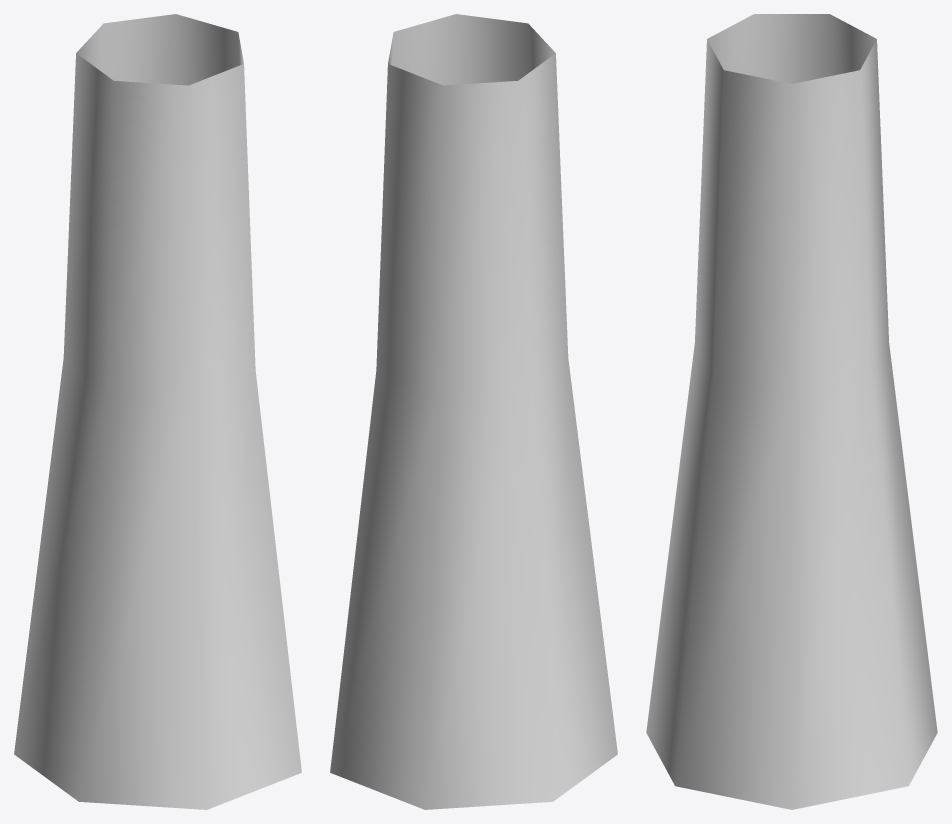
File: mushroom_stem.glb
3 views of the same model, side by side, from view 1: azimuth 30°, elevation 25°; view 2: azimuth 150°, elevation 25°; view 3: azimuth 270°, elevation 25° (orthographic).
Visible parts, largest first — view 1: MushroomStem; view 2: MushroomStem; view 3: MushroomStem.
Part boxes in pixels (x1=…): MushroomStem: x1=14, y1=14, x2=301, y2=809; MushroomStem: x1=330, y1=14, x2=617, y2=809; MushroomStem: x1=646, y1=14, x2=937, y2=809.
Size of the model in its own units: 0.2281 by 0.62 by 0.234.
Materials: 1 (1 with a texture image).
